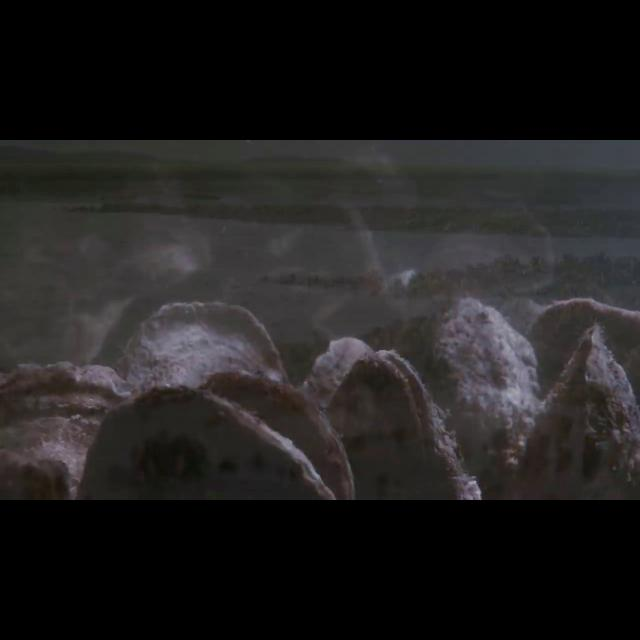Oyster-Closed: (76, 384, 340, 496), (412, 297, 543, 475), (501, 326, 638, 490), (196, 365, 355, 496), (1, 358, 129, 499), (114, 299, 289, 383), (524, 297, 640, 380), (299, 334, 372, 401)
Oyster-Open: (325, 344, 482, 500)
